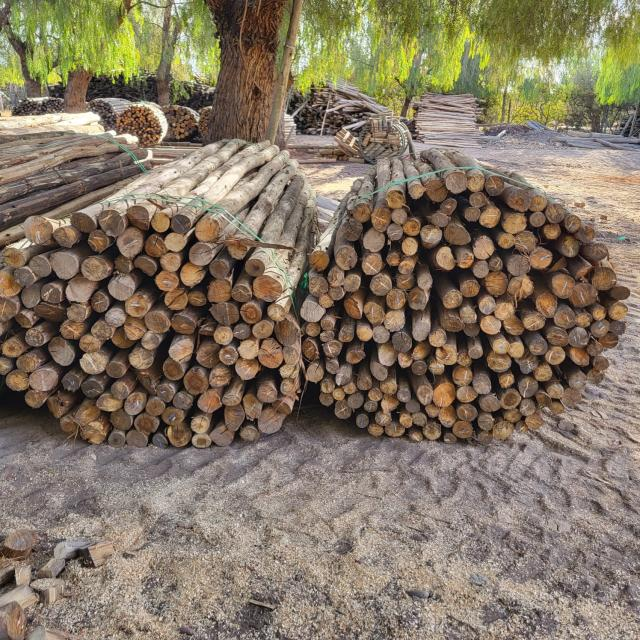package: (301, 170, 629, 442), (2, 207, 296, 451), (115, 103, 164, 146), (164, 103, 197, 141), (86, 98, 115, 130), (10, 99, 40, 117), (42, 98, 61, 114)
